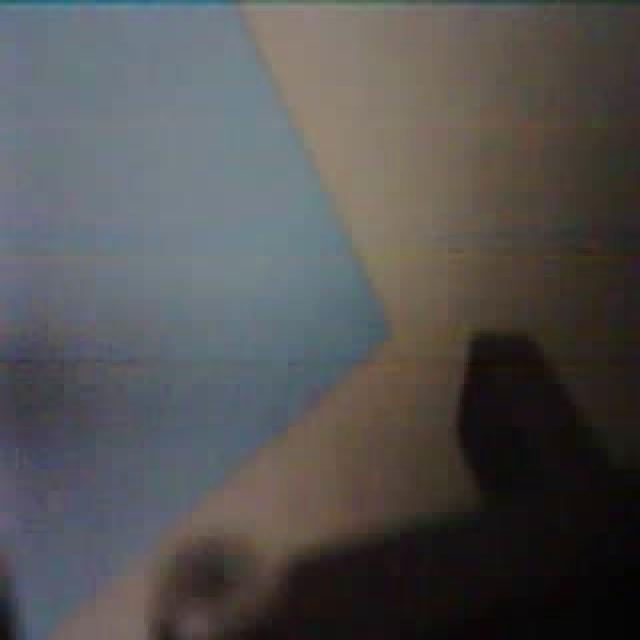blue_box: (0, 3, 396, 632)
